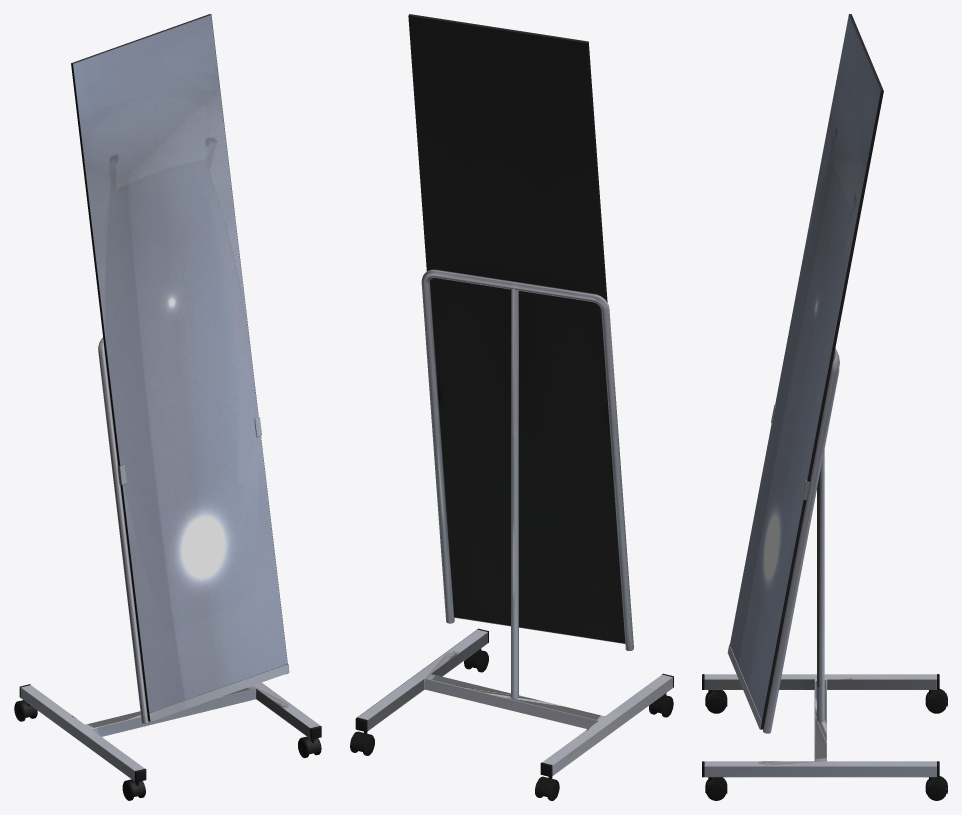
The model's file is sermide.glb.
3 renders of one model, left to right at view 1: azimuth 30°, elevation 25°; view 2: azimuth 150°, elevation 25°; view 3: azimuth 270°, elevation 25°, orthographic. The views are drawn at different scales.
Visible parts, largest first — view 1: sermide-chrome; view 2: sermide-chrome; view 3: sermide-chrome.
Part boxes in pixels (x1=…): sermide-chrome: x1=14, y1=14, x2=321, y2=800; sermide-chrome: x1=350, y1=14, x2=673, y2=800; sermide-chrome: x1=702, y1=14, x2=947, y2=800.
Size of the model in its own units: 0.4661 by 1.6 by 0.5099.
1 material, 1 textured.
